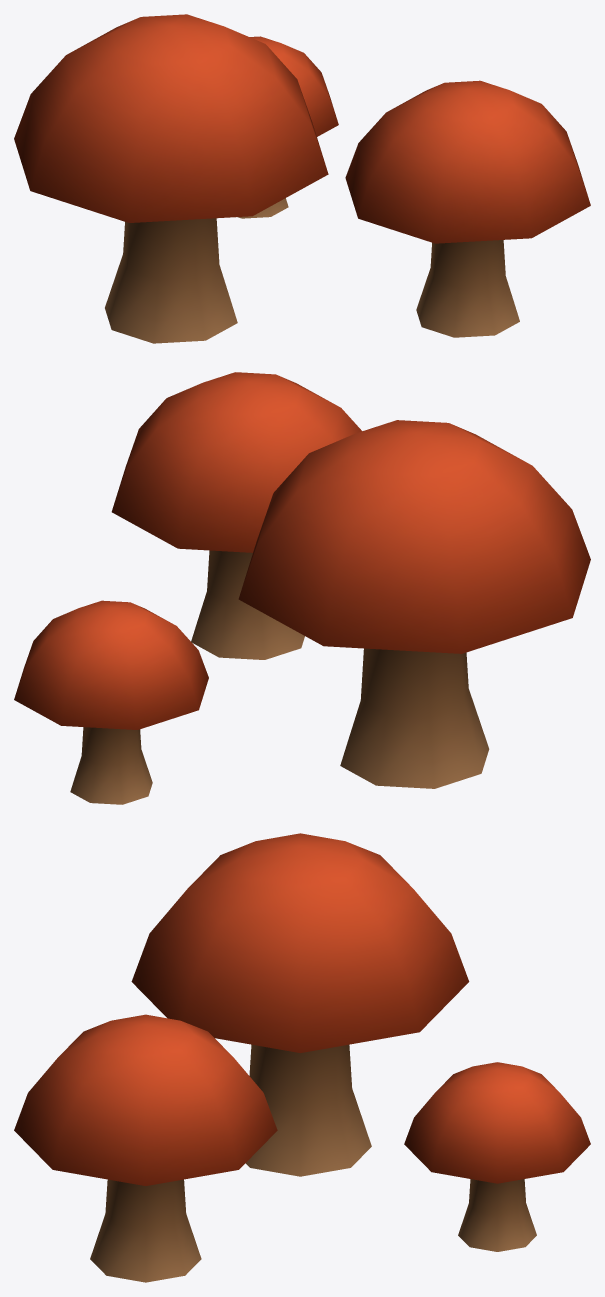
File: mushrooms.fbx
The picture shows the model from 3 angles, top to bottom: view 1: azimuth 30°, elevation 25°; view 2: azimuth 150°, elevation 25°; view 3: azimuth 270°, elevation 25°; orthographic projection. The views are drawn at different scales.
Parts seen in each view (by area): view 1: mushrooms; view 2: mushrooms; view 3: mushrooms.
Boxes of the visible parts, x1,y1,x2,y2 form: mushrooms: (14, 14, 590, 343); mushrooms: (14, 372, 590, 804); mushrooms: (14, 833, 590, 1282).
Bounding box in the file's own units: 0.8871 × 0.5186 × 0.9028.
